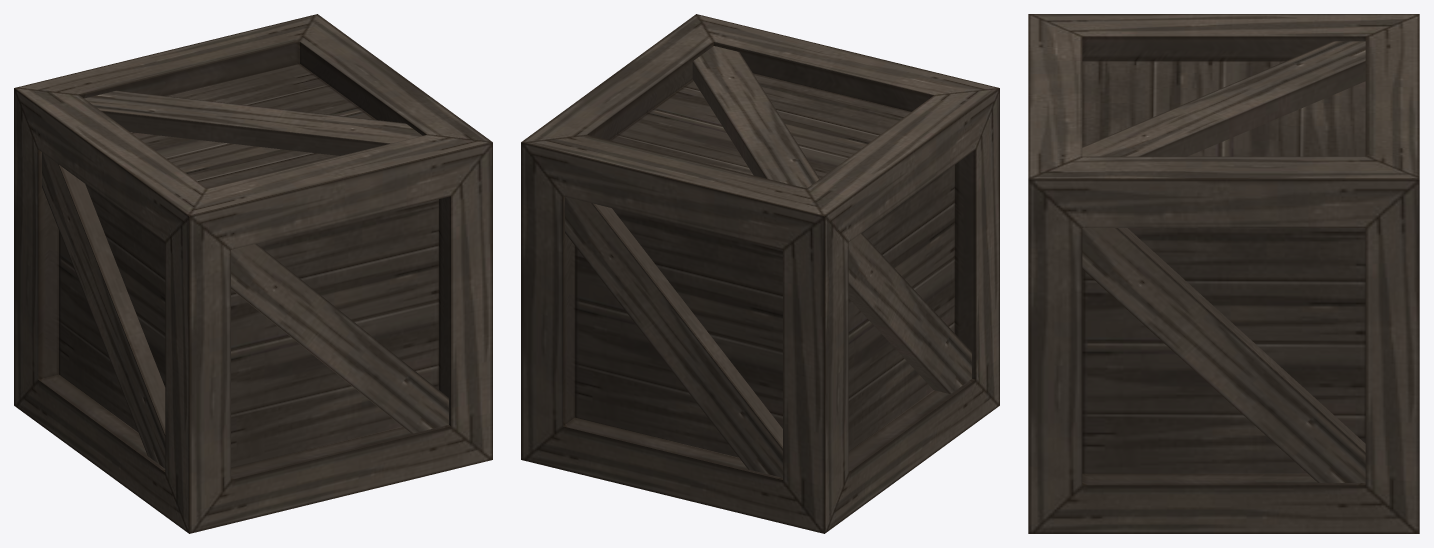
Rendered from mine_crate_single.gltf.
The picture shows the model from 3 angles, left to right: view 1: azimuth 30°, elevation 25°; view 2: azimuth 150°, elevation 25°; view 3: azimuth 270°, elevation 25°; orthographic projection. The views are drawn at different scales.
Parts seen in each view (by area): view 1: pCube9; view 2: pCube9; view 3: pCube9.
Part boxes in pixels (bbox=[...]): pCube9: bbox=[14, 14, 492, 533]; pCube9: bbox=[521, 14, 999, 533]; pCube9: bbox=[1028, 14, 1419, 533].
Bounding box in the file's own units: 3.43 × 3.43 × 3.43.
1 material, 1 textured.
